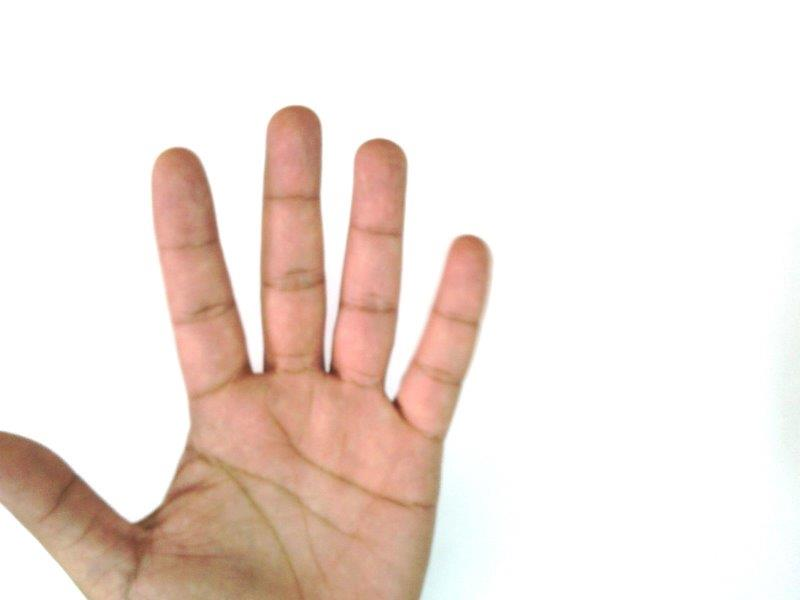hand: (1, 104, 493, 600)
